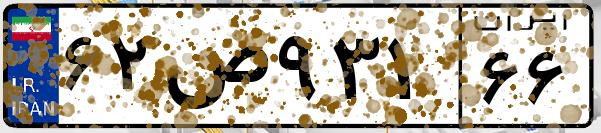1: (385, 28, 445, 110)
2: (110, 28, 158, 98)
3: (330, 28, 385, 110)
6: (57, 26, 110, 100), (475, 38, 525, 113), (525, 38, 570, 115)
9: (270, 28, 330, 110)
ص: (158, 20, 270, 120)
